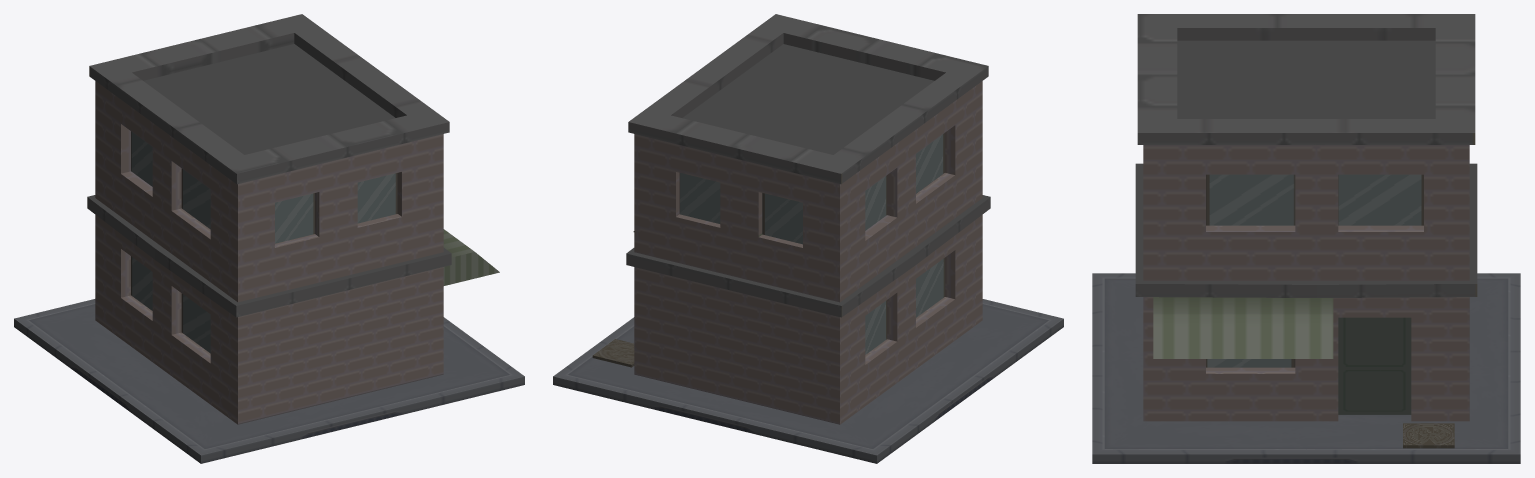
Rendered from Building_Exemple.fbx.
3 views of the same model, side by side, from view 1: azimuth 30°, elevation 25°; view 2: azimuth 150°, elevation 25°; view 3: azimuth 270°, elevation 25° (orthographic). The views are drawn at different scales.
Parts seen in each view (by area): view 1: SM_exemple; view 2: SM_exemple; view 3: SM_exemple.
Boxes of the visible parts, left/top/right/bottom form: SM_exemple: left=14, top=14, right=524, bottom=463; SM_exemple: left=553, top=14, right=1063, bottom=463; SM_exemple: left=1092, top=14, right=1520, bottom=463.
Size of the model in its own units: 792 by 609 by 788.
